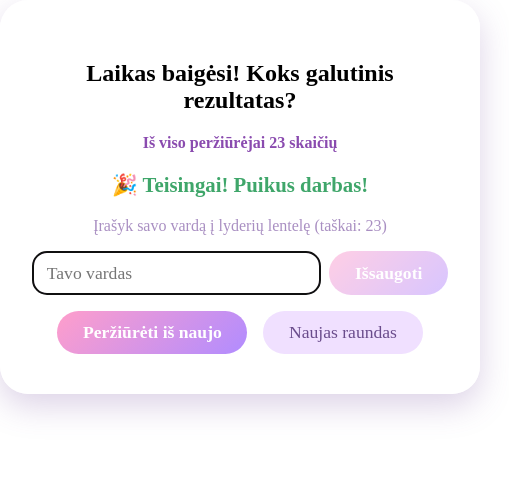
AnswerScreen leaderboard entry › tells the player their earlier best stands when the new score is lower
Type "Ona" into the field labelled "vardas" at (177, 273), box [32,251,321,295]
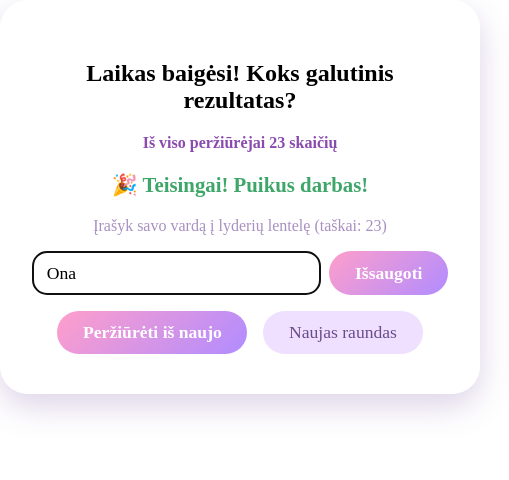
Click the button "Išsaugoti" at (389, 273), box [329,251,448,295]
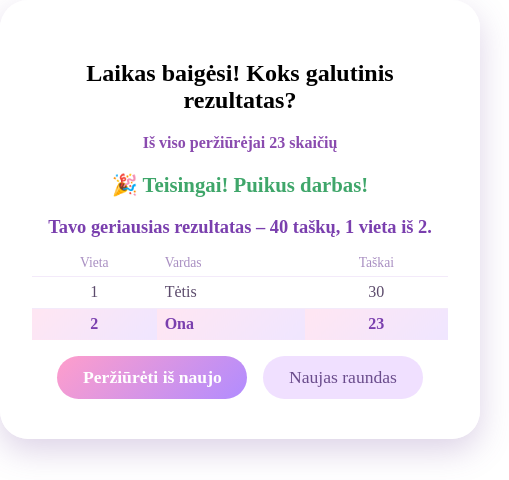
Expected: the text "Tavo geriausias rezultatas – 40 taškų, 1 vieta iš 2." is shown, [32,217,448,238]
